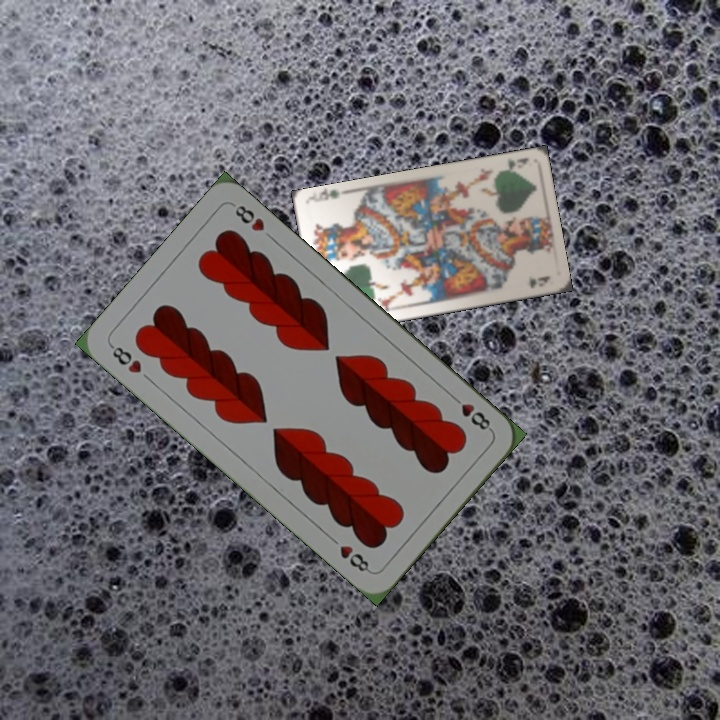GK: (494, 153, 531, 177)
H8: (446, 391, 495, 435), (106, 340, 144, 376)
